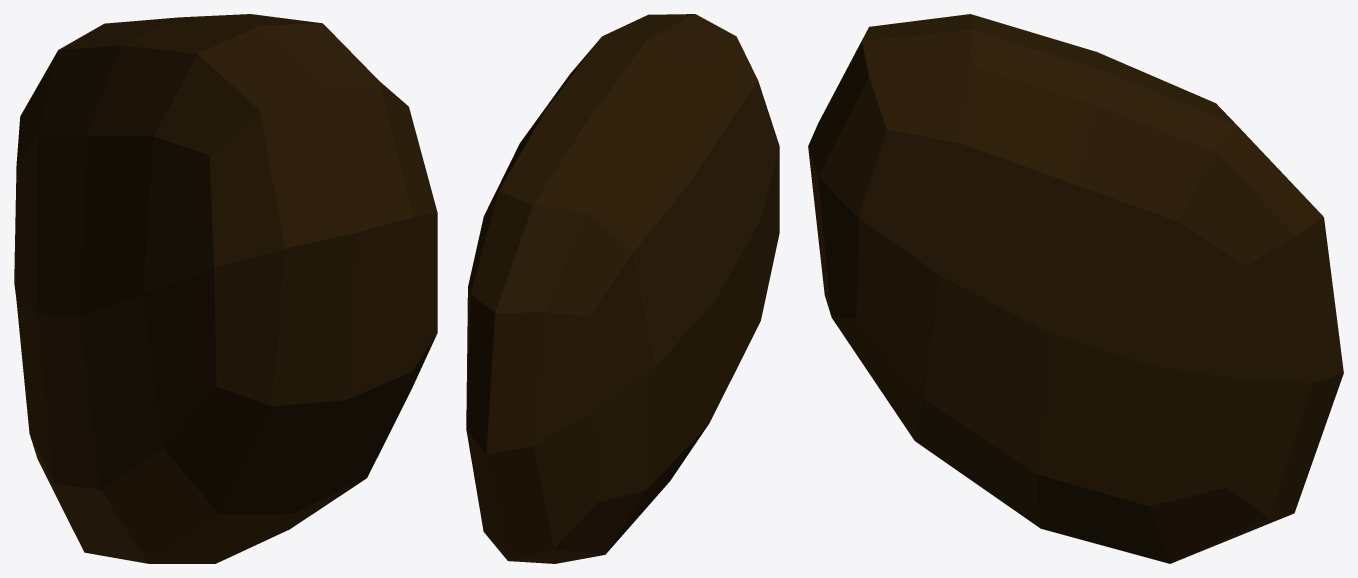
File: Punk Hair 1.fbx
3 renders of one model, left to right at view 1: azimuth 30°, elevation 25°; view 2: azimuth 150°, elevation 25°; view 3: azimuth 270°, elevation 25°, orthographic. The views are drawn at different scales.
Visible parts, largest first — view 1: Hair 1.002; view 2: Hair 1.002; view 3: Hair 1.002.
Part boxes in pixels (x1=…): Hair 1.002: x1=14, y1=14, x2=437, y2=563; Hair 1.002: x1=466, y1=14, x2=779, y2=563; Hair 1.002: x1=808, y1=14, x2=1343, y2=563.
Bounding box in the file's own units: 19.67 × 42.98 × 39.61.
